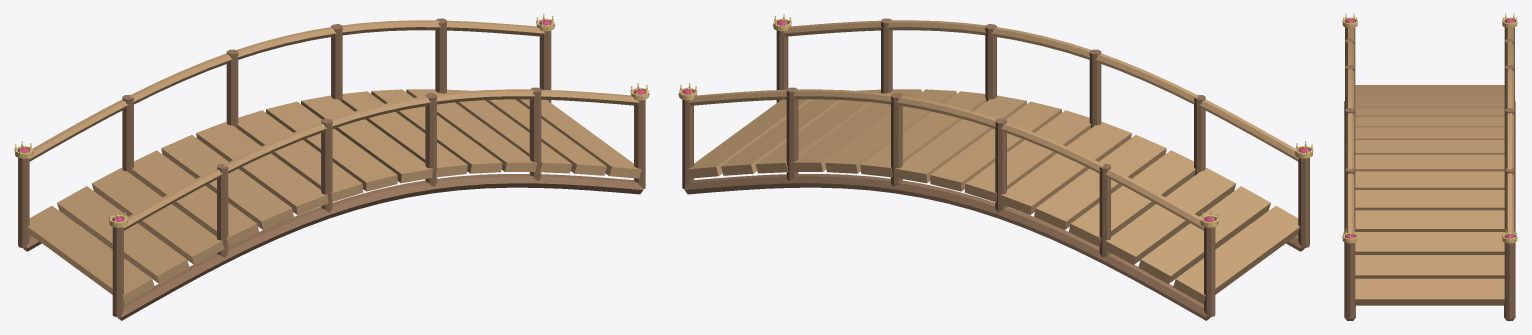
The model's file is HOB_WoodFootbridge.fbx.
3 views of the same model, side by side, from view 1: azimuth 30°, elevation 25°; view 2: azimuth 150°, elevation 25°; view 3: azimuth 270°, elevation 25° (orthographic). The views are drawn at different scales.
Parts seen in each view (by area): view 1: HOB_WoodFootbridge; view 2: HOB_WoodFootbridge; view 3: HOB_WoodFootbridge.
Part boxes in pixels (x1,y1,x2,y2): HOB_WoodFootbridge: (14,14,649,320); HOB_WoodFootbridge: (678,14,1313,320); HOB_WoodFootbridge: (1342,14,1517,320).
Bounding box in the file's own units: 619 × 165 × 207.
